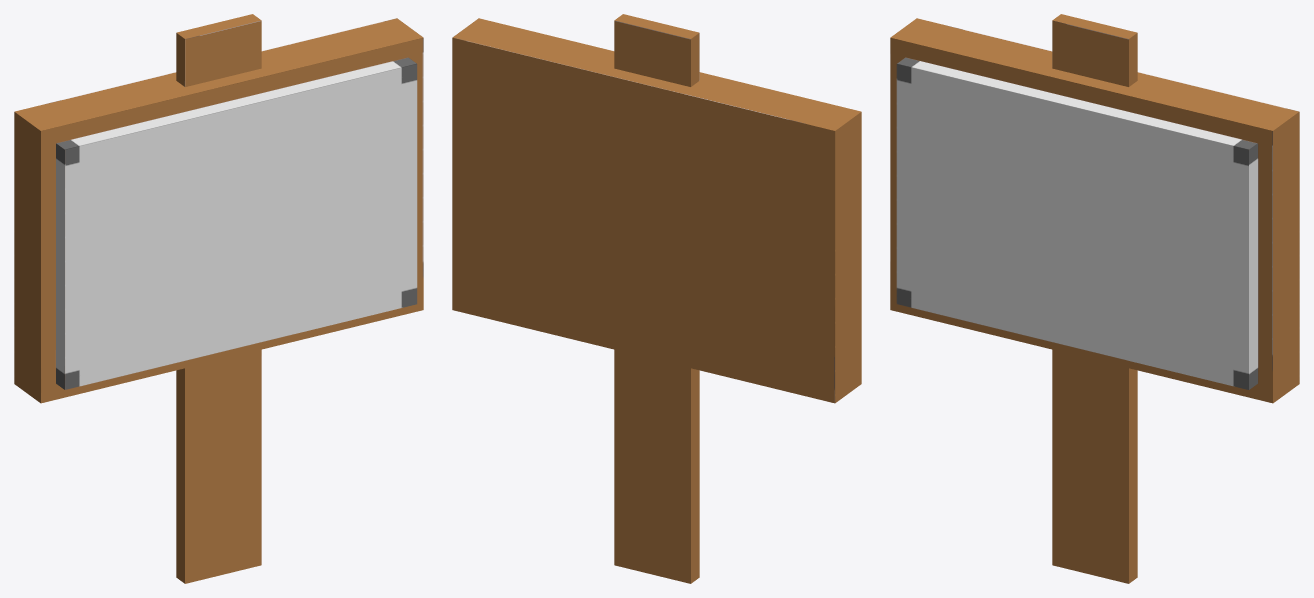
The model's file is kanban.glb.
The picture shows the model from 3 angles, left to right: view 1: azimuth 30°, elevation 25°; view 2: azimuth 150°, elevation 25°; view 3: azimuth 330°, elevation 25°; orthographic projection.
Parts seen in each view (by area): view 1: kanban; view 2: kanban; view 3: kanban.
Boxes of the visible parts, x1,y1,x2,y2 form: kanban: (14, 14, 423, 583); kanban: (452, 14, 861, 583); kanban: (890, 14, 1299, 583).
Size of the model in its own units: 1 by 1.36 by 0.16.
1 material, 1 textured.
